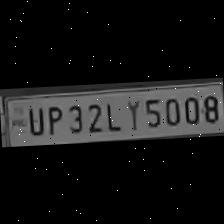0: (180, 92, 200, 125), (160, 94, 180, 126)
2: (82, 99, 104, 133)
3: (63, 100, 83, 134)
5: (140, 94, 162, 128)
8: (199, 92, 221, 124)
L: (101, 97, 121, 132)
P: (43, 102, 64, 136)
U: (23, 103, 44, 135)
Y: (122, 96, 140, 132)
